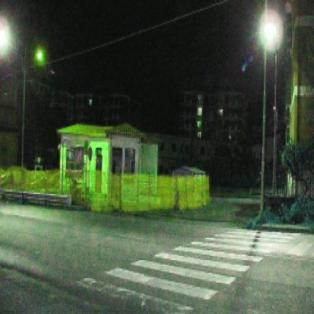Paso de Cebra: (100, 252, 238, 308)
